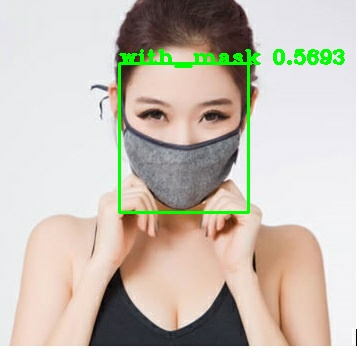with_mask: (107, 54, 261, 214)
